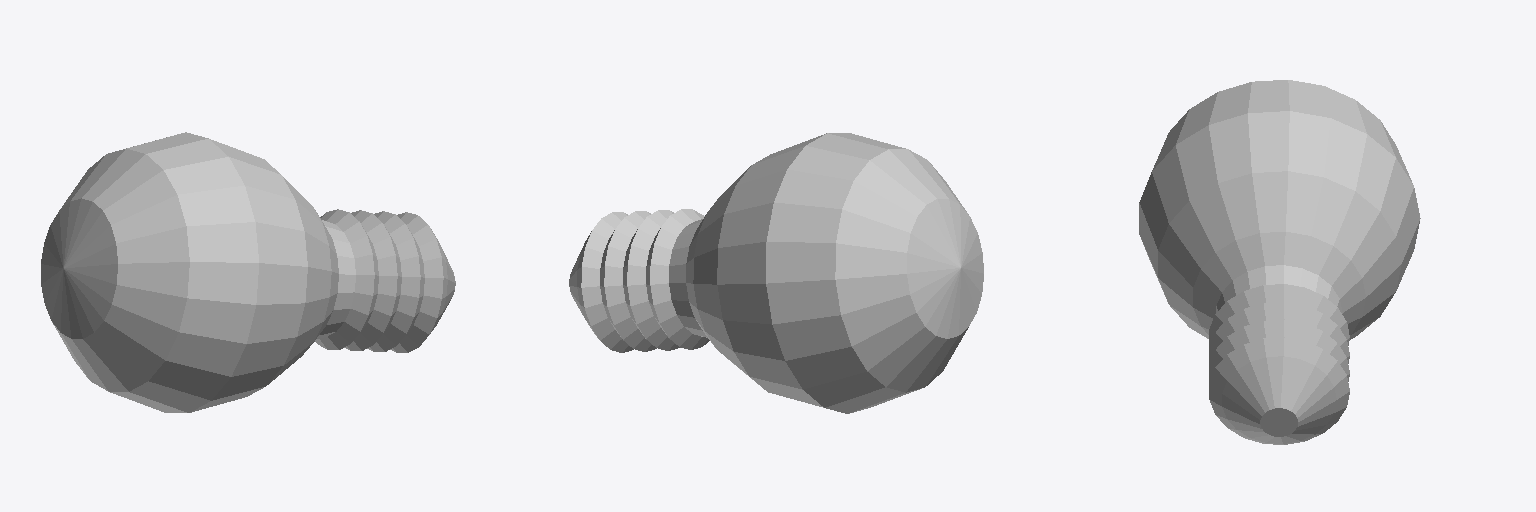
The model's file is light.obj.
3 renders of one model, left to right at view 1: azimuth 30°, elevation 25°; view 2: azimuth 150°, elevation 25°; view 3: azimuth 270°, elevation 25°, orthographic.
Visible parts, largest first — view 1: Sphere; view 2: Sphere; view 3: Sphere.
Boxes of the visible parts, x1=… form: Sphere: x1=41, y1=132, x2=455, y2=412; Sphere: x1=569, y1=133, x2=983, y2=413; Sphere: x1=1139, y1=80, x2=1420, y2=444.
Bounding box in the file's own units: 3.15 × 1.95 × 1.99.